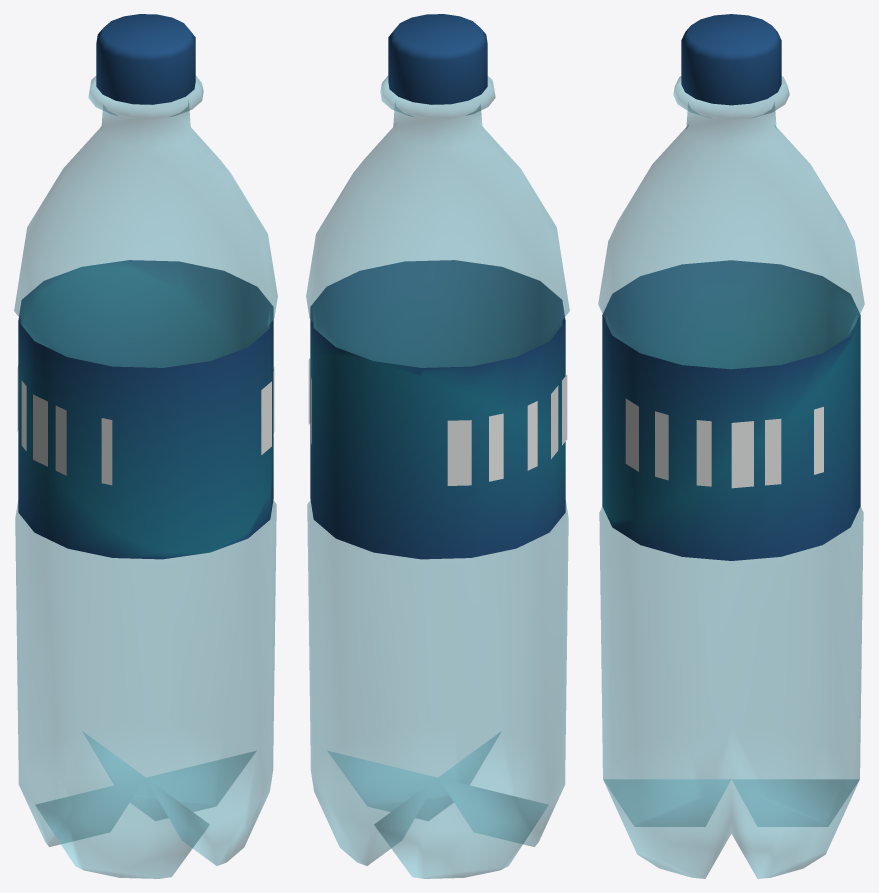
File: consumables-drinks-waterbottle_v1.glb
The picture shows the model from 3 angles, left to right: view 1: azimuth 30°, elevation 25°; view 2: azimuth 150°, elevation 25°; view 3: azimuth 270°, elevation 25°; orthographic projection.
Parts seen in each view (by area): view 1: WaterBottle_refl, WaterBottle_base; view 2: WaterBottle_refl, WaterBottle_base; view 3: WaterBottle_refl, WaterBottle_base.
Boxes of the visible parts, <box> form: WaterBottle_refl: <box>14,76,277,878</box>; WaterBottle_base: <box>17,14,274,559</box>; WaterBottle_refl: <box>306,76,569,878</box>; WaterBottle_base: <box>308,14,567,559</box>; WaterBottle_refl: <box>598,76,864,878</box>; WaterBottle_base: <box>602,14,860,560</box>.
Size of the model in its own units: 0.00464 by 0.0155 by 0.00464.
